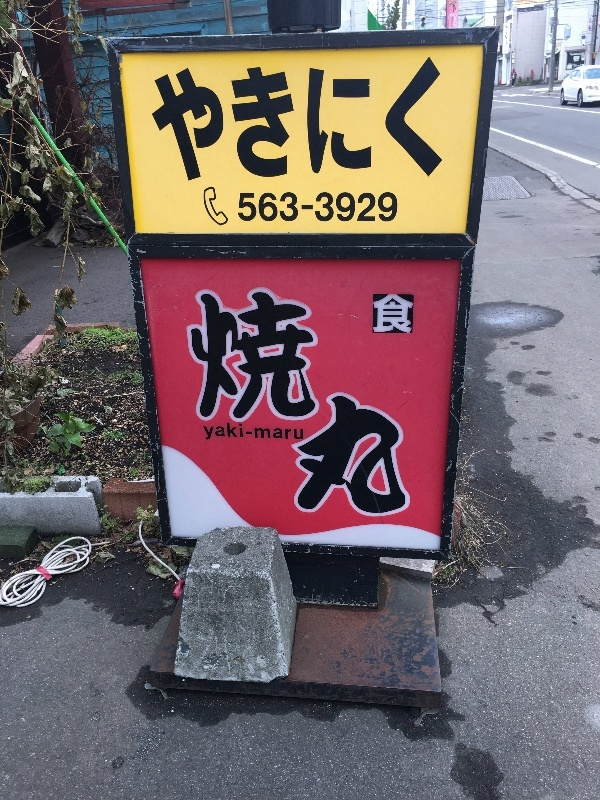text: (161, 54, 176, 188), (177, 54, 192, 188), (193, 54, 208, 188), (209, 54, 224, 188), (225, 54, 240, 188), (241, 54, 256, 188), (257, 54, 272, 188), (273, 54, 288, 188), (289, 54, 304, 188), (305, 54, 320, 188), (321, 54, 336, 188), (337, 54, 352, 188), (353, 54, 368, 188), (369, 54, 384, 188), (385, 54, 400, 188), (401, 54, 416, 188), (417, 54, 432, 188), (193, 291, 208, 423), (209, 291, 224, 423), (225, 291, 240, 423), (241, 291, 256, 423), (257, 291, 272, 423), (273, 291, 288, 423), (289, 291, 304, 423), (146, 54, 160, 188), (433, 54, 447, 188), (305, 392, 320, 516), (321, 392, 336, 516), (337, 392, 352, 516), (353, 392, 368, 516), (369, 392, 384, 516), (385, 392, 400, 516), (305, 291, 316, 423), (297, 392, 304, 516), (401, 392, 408, 516), (385, 293, 400, 336), (401, 293, 416, 336), (241, 189, 256, 230), (257, 189, 272, 230), (273, 189, 288, 230), (289, 189, 304, 230), (305, 189, 320, 230), (321, 189, 336, 230), (337, 189, 352, 230), (353, 189, 368, 230), (369, 189, 384, 230), (385, 189, 400, 230), (374, 293, 384, 336), (289, 418, 305, 443), (189, 291, 192, 423), (209, 418, 224, 443), (225, 418, 240, 443), (241, 418, 256, 443), (257, 418, 272, 443), (273, 418, 288, 443), (203, 418, 208, 443), (239, 189, 240, 230)
